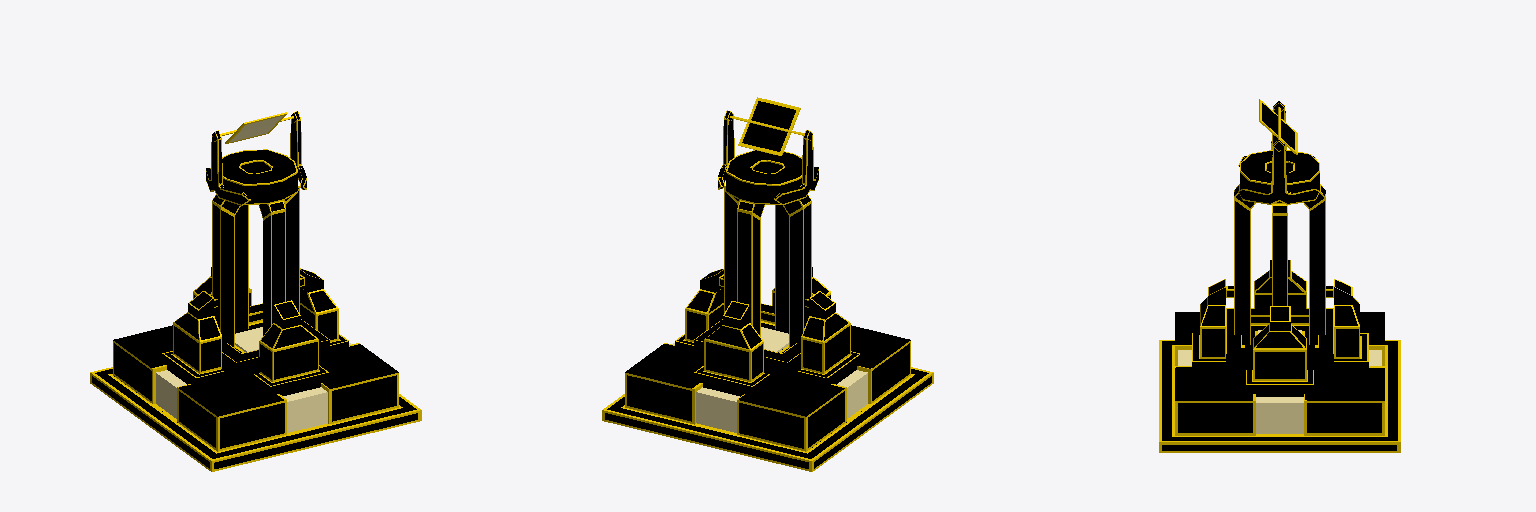
3 renders of one model, left to right at view 1: azimuth 30°, elevation 25°; view 2: azimuth 150°, elevation 25°; view 3: azimuth 270°, elevation 25°, orthographic.
Visible parts, largest first — view 1: Laser_L1_Base, Laser_L1_Support, Box005, Box009, Laser_L1_Mirror, Box008; view 2: Laser_L1_Base, Laser_L1_Support, Box007, Laser_L1_Mirror, Box009, Box008; view 3: Laser_L1_Base, Laser_L1_Support, Box008, Laser_L1_Mirror, Box007, Box005, Box009.
Part boxes in pixels (left/top/right/bottom): Laser_L1_Base: left=90, top=303, right=421, bottom=471; Laser_L1_Support: left=212, top=149, right=299, bottom=347; Box005: left=254, top=300, right=328, bottom=395; Box009: left=162, top=291, right=225, bottom=386; Laser_L1_Mirror: left=206, top=111, right=306, bottom=205; Box008: left=300, top=268, right=348, bottom=354; Laser_L1_Base: left=602, top=303, right=933, bottom=471; Laser_L1_Support: left=724, top=150, right=811, bottom=347; Box007: left=694, top=301, right=769, bottom=396; Laser_L1_Mirror: left=718, top=97, right=818, bottom=204; Box009: left=798, top=291, right=860, bottom=386; Box008: left=675, top=269, right=723, bottom=354; Laser_L1_Base: left=1159, top=308, right=1400, bottom=452; Laser_L1_Support: left=1234, top=150, right=1325, bottom=344; Box008: left=1246, top=306, right=1313, bottom=396; Laser_L1_Mirror: left=1238, top=99, right=1319, bottom=204; Box007: left=1326, top=279, right=1368, bottom=370; Box005: left=1192, top=279, right=1233, bottom=369; Box009: left=1254, top=260, right=1306, bottom=308.
Size of the model in its own units: 20 by 26.6 by 20.
Materials: 1 (1 with a texture image).